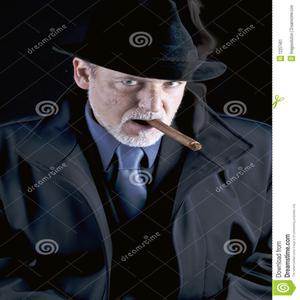cigarette: (151, 117, 204, 152)
